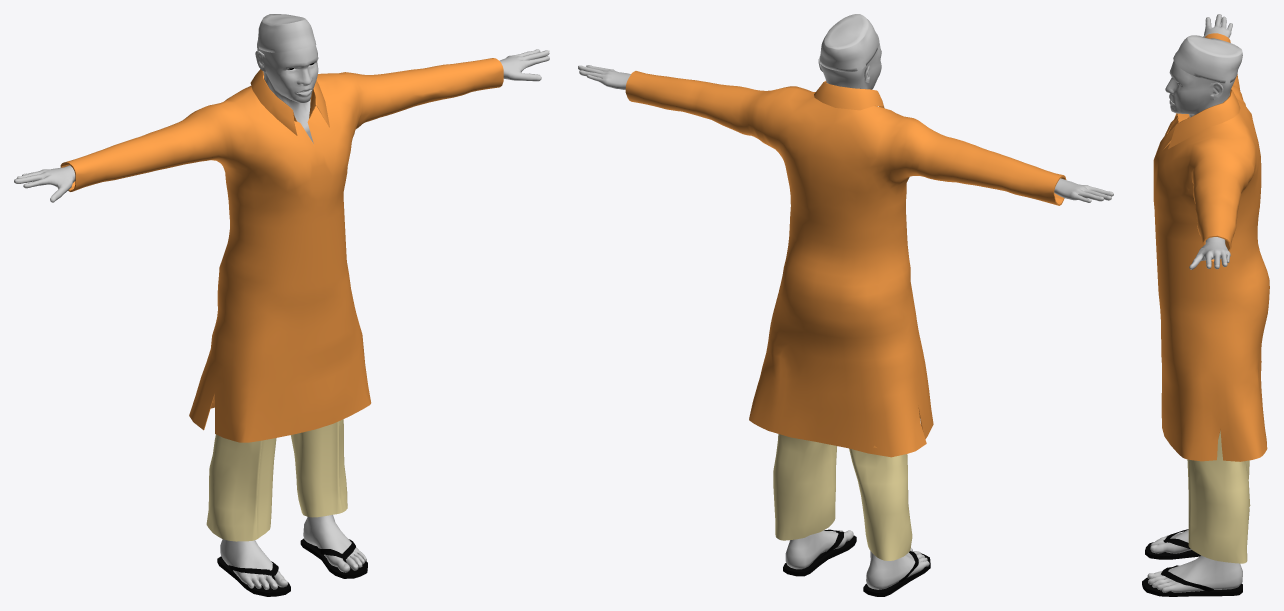
The model's file is Male.obj.
3 renders of one model, left to right at view 1: azimuth 30°, elevation 25°; view 2: azimuth 150°, elevation 25°; view 3: azimuth 270°, elevation 25°, orthographic. The views are drawn at different scales.
Parts seen in each view (by area): view 1: kurta Man_1, Man_1 pant, Man_1 Face, Cap, Man_1 r_leg, Man_1 l_leg, Man_1 r_hand, Man_1 l_hand, Man_1 r_chappal, Man_1 l_chappal; view 2: kurta Man_1, Man_1 pant, Cap, Man_1 r_leg, Man_1 l_leg, Man_1 Face, Man_1 r_hand, Man_1 l_chappal, Man_1 l_hand; view 3: kurta Man_1, Man_1 pant, Cap, Man_1 l_leg, Man_1 Face, Man_1 l_chappal, Man_1 l_hand, Man_1 r_chappal, Man_1 r_leg, Man_1 r_hand.
Part boxes in pixels (<box>): kurta Man_1: <box>60,58,503,442</box>; Man_1 pant: <box>206,419,347,541</box>; Man_1 Face: <box>255,45,318,143</box>; Cap: <box>257,14,316,52</box>; Man_1 r_leg: <box>220,539,288,589</box>; Man_1 l_leg: <box>303,515,366,572</box>; Man_1 r_hand: <box>14,165,75,202</box>; Man_1 l_hand: <box>499,49,549,81</box>; Man_1 r_chappal: <box>217,556,290,596</box>; Man_1 l_chappal: <box>300,538,367,578</box>; kurta Man_1: <box>625,71,1066,457</box>; Man_1 pant: <box>773,434,912,560</box>; Cap: <box>820,14,879,72</box>; Man_1 r_leg: <box>866,548,929,589</box>; Man_1 l_leg: <box>785,530,853,569</box>; Man_1 Face: <box>818,43,881,89</box>; Man_1 r_hand: <box>1054,178,1113,202</box>; Man_1 l_chappal: <box>783,529,856,576</box>; Man_1 l_hand: <box>578,65,630,89</box>; kurta Man_1: <box>1153,33,1269,461</box>; Man_1 pant: <box>1187,430,1250,563</box>; Cap: <box>1173,35,1242,83</box>; Man_1 l_leg: <box>1147,555,1242,592</box>; Man_1 Face: <box>1165,60,1234,117</box>; Man_1 l_chappal: <box>1142,565,1242,596</box>; Man_1 l_hand: <box>1189,237,1230,269</box>; Man_1 r_chappal: <box>1145,529,1200,559</box>; Man_1 r_leg: <box>1150,529,1191,553</box>; Man_1 r_hand: <box>1203,14,1232,37</box>.
Bounding box in the file's own units: 198 × 195 × 42.37.
